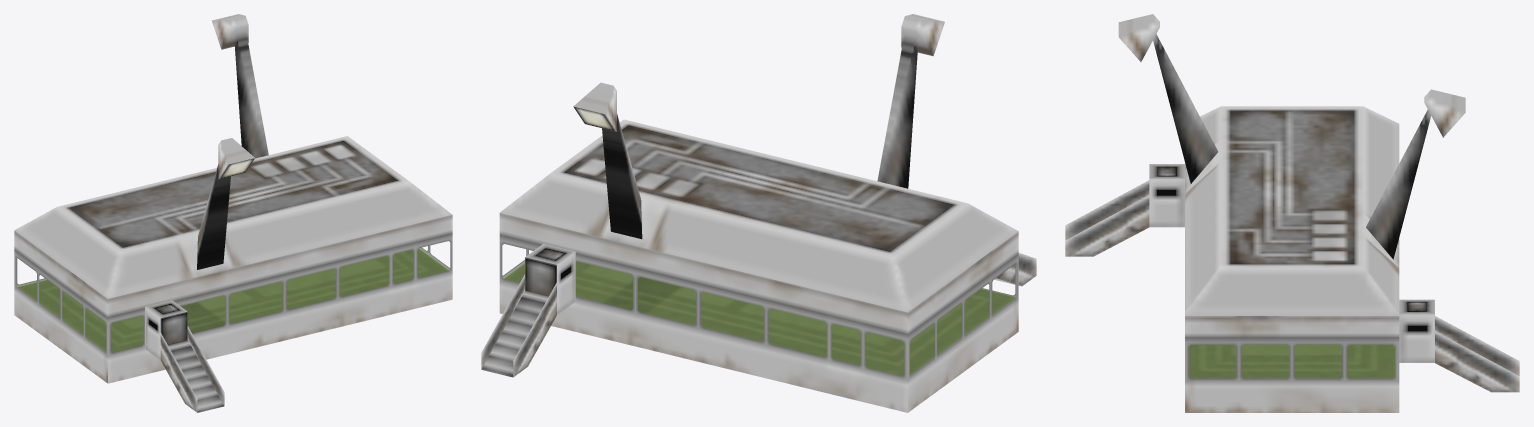
File: terminal2.glb
3 views of the same model, side by side, from view 1: azimuth 30°, elevation 25°; view 2: azimuth 150°, elevation 25°; view 3: azimuth 270°, elevation 25° (orthographic). The views are drawn at different scales.
Visible parts, largest first — view 1: Terminal, Externals, Stairs; view 2: Terminal, Externals, Stairs; view 3: Terminal, Stairs, Externals.
Part boxes in pixels (x1,y1,x2,y2): Terminal: [14, 136, 452, 383]; Externals: [197, 14, 268, 269]; Stairs: [145, 300, 224, 412]; Terminal: [499, 119, 1018, 412]; Externals: [573, 14, 944, 239]; Stairs: [481, 243, 1036, 377]; Terminal: [1185, 106, 1399, 412]; Stairs: [1065, 164, 1519, 392]; Externals: [1118, 14, 1465, 259].
Bounding box in the file's own units: 25.5 × 16.21 × 25.45.
1 material, 1 textured.
